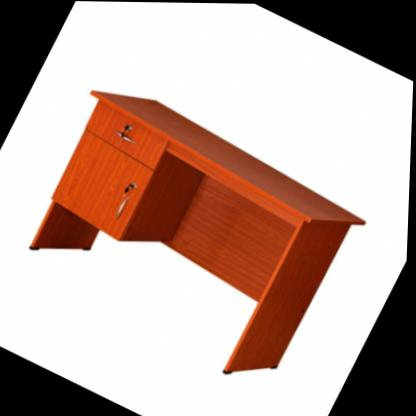Table: (0, 55, 406, 416)
